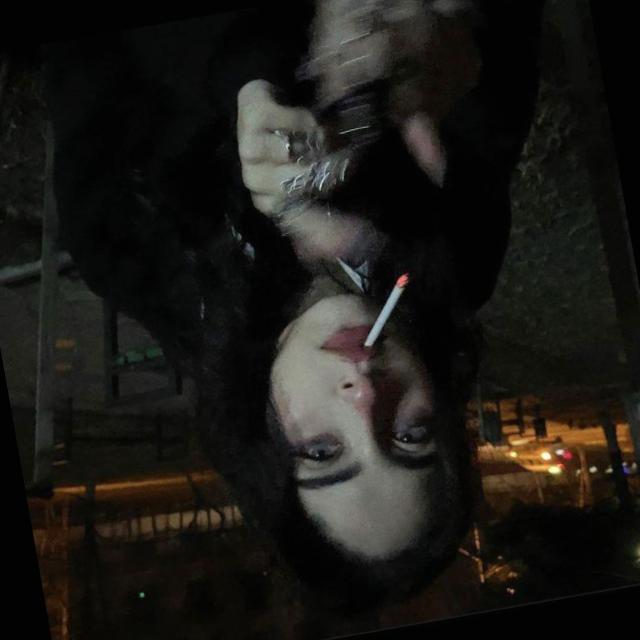cigarette: (345, 262, 428, 364)
